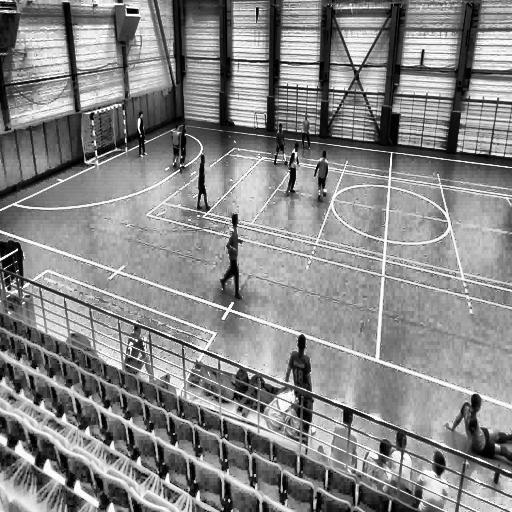ball: (322, 187, 329, 199)
player: (220, 212, 244, 298), (196, 152, 211, 212), (313, 149, 329, 202), (286, 141, 300, 196), (272, 120, 287, 166), (136, 110, 147, 158), (172, 122, 182, 172), (301, 114, 312, 148), (181, 122, 187, 175)
